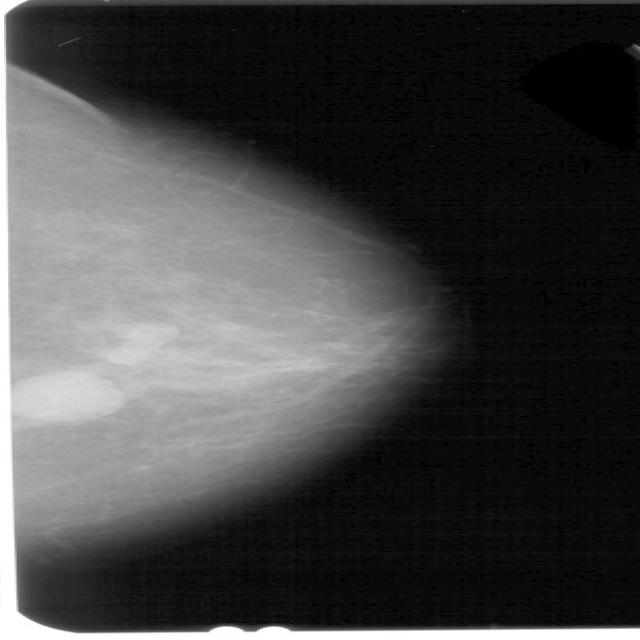tumour: (10, 371, 124, 422), (102, 321, 178, 362)
